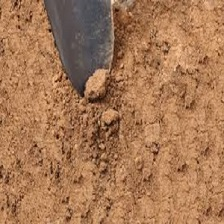clay_soil: (9, 23, 216, 206)
